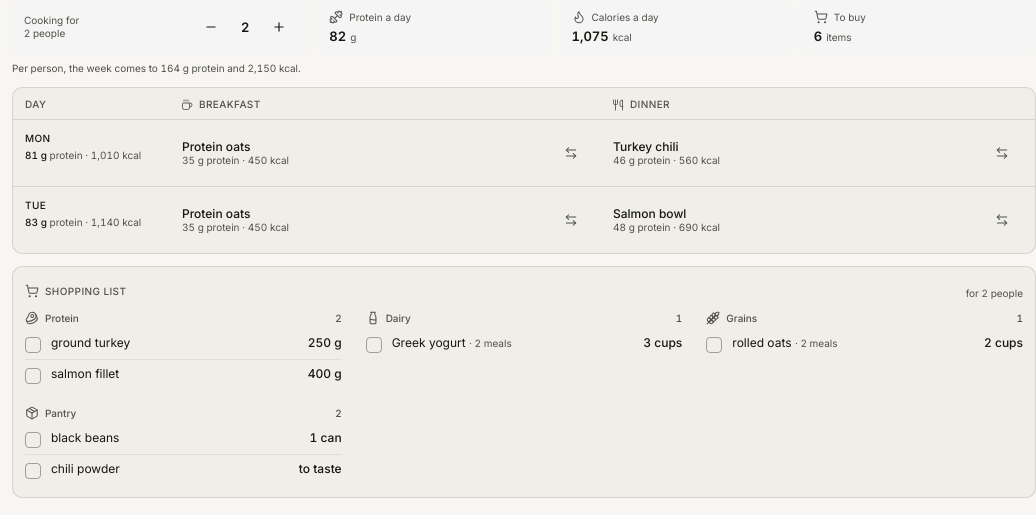
Test: meal-plan: bound edits › a Svelte parent sees the swapped days and the ticked items
Select "Turkey chili (46 g protein)" in the dropdown named "Swap Tue Dinner" at (1002, 220), box [995,213,1009,227]
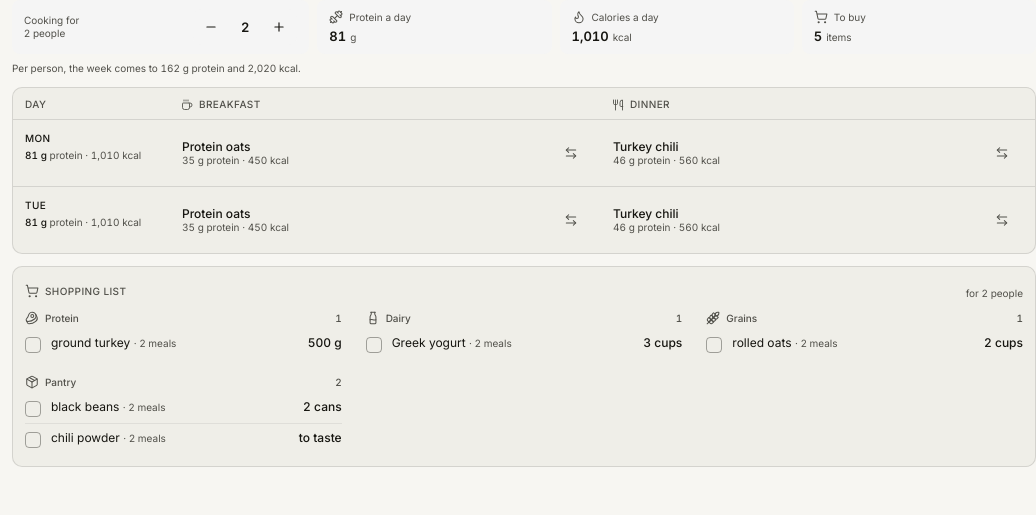
Click the checkbox labelled "ground turkey · 2 meals 500 g" at (92, 342), box [25,329,342,359]
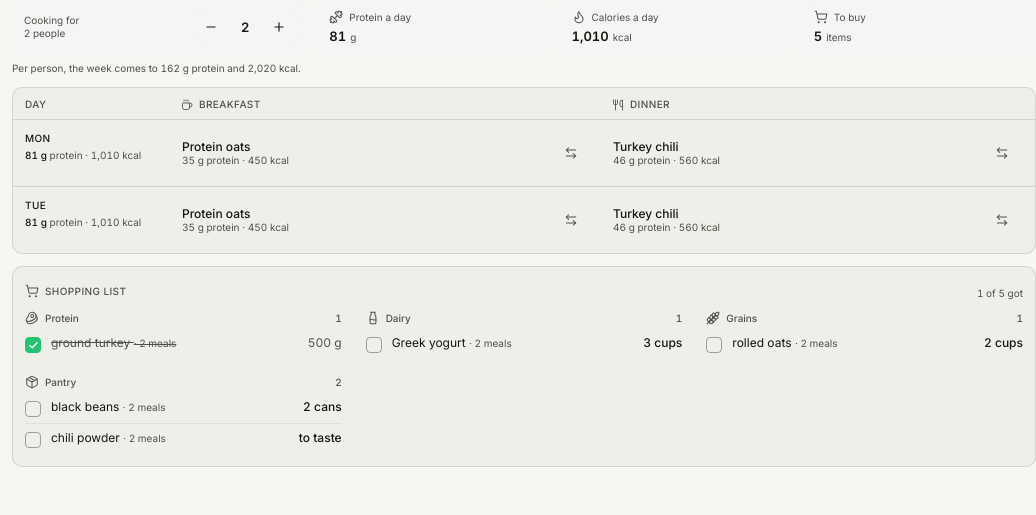
Expected: the text "1 of 5 got" is shown, [977,287,1023,299]
